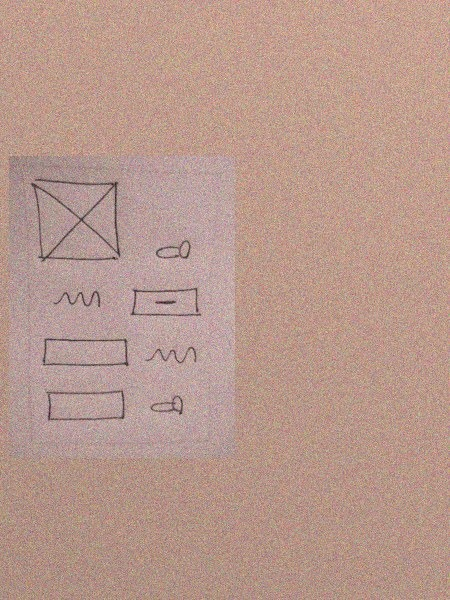button: (127, 286, 206, 321)
image: (29, 176, 126, 265)
switch: (147, 392, 188, 423), (152, 236, 195, 264)
text: (144, 342, 199, 372), (50, 286, 103, 312)
text_input: (40, 334, 131, 371), (42, 388, 130, 423)
